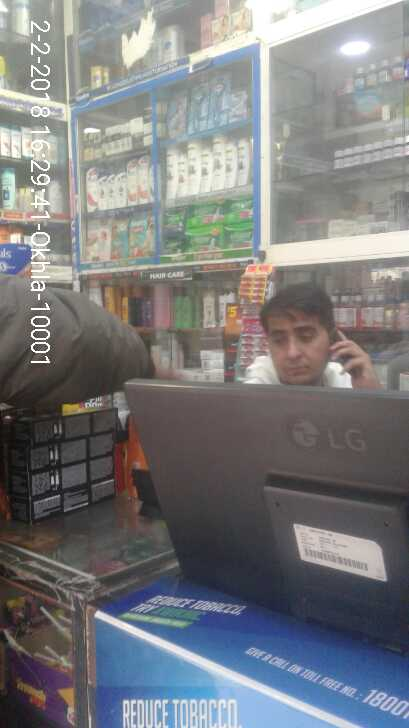venus: (188, 78, 211, 134), (211, 78, 230, 122), (166, 98, 188, 134), (230, 90, 249, 122)
